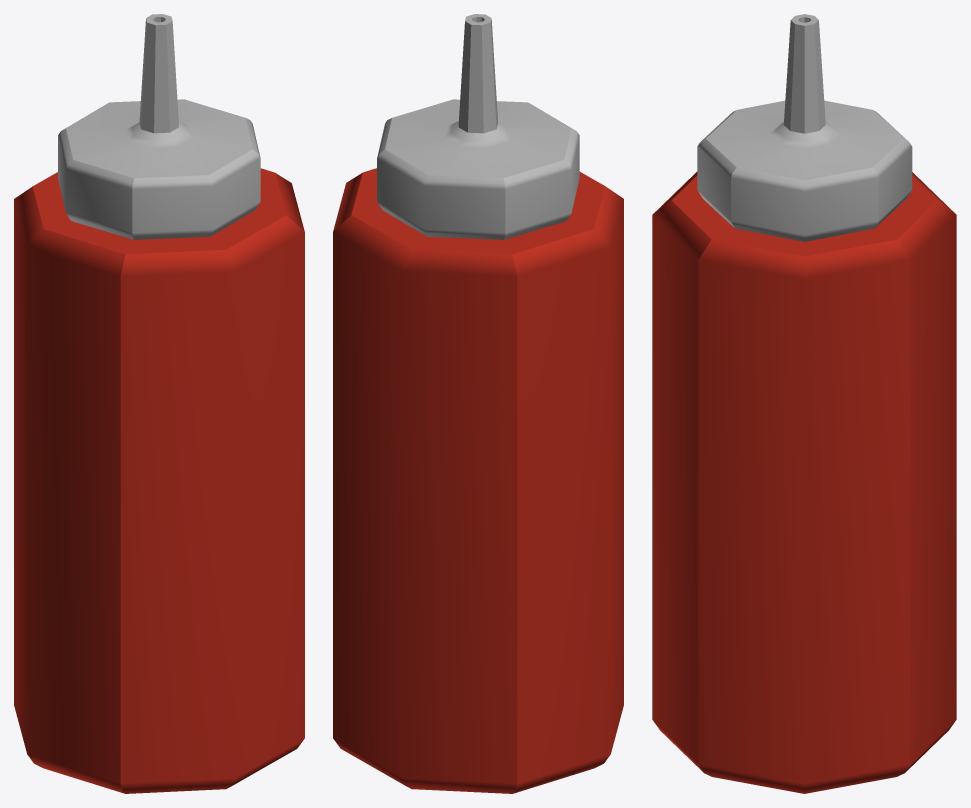
The model's file is Ketchup Bottle.fbx.
3 views of the same model, side by side, from view 1: azimuth 30°, elevation 25°; view 2: azimuth 150°, elevation 25°; view 3: azimuth 270°, elevation 25° (orthographic).
Parts seen in each view (by area): view 1: Bottle, BottleCap; view 2: Bottle, BottleCap; view 3: Bottle, BottleCap.
Boxes of the visible parts, <box> form: Bottle: <box>14,168,304,793</box>; BottleCap: <box>58,14,260,239</box>; Bottle: <box>333,168,623,793</box>; BottleCap: <box>377,14,579,239</box>; Bottle: <box>652,171,956,793</box>; BottleCap: <box>697,14,912,241</box>.
Size of the model in its own units: 66.14 by 172 by 66.14.
Materials: 2 (1 with a texture image).
